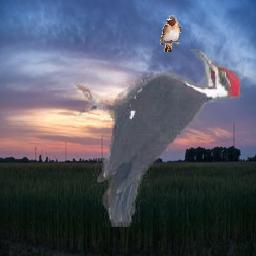Swallow: (161, 16, 182, 53)
Woodpecker: (74, 49, 244, 227)
